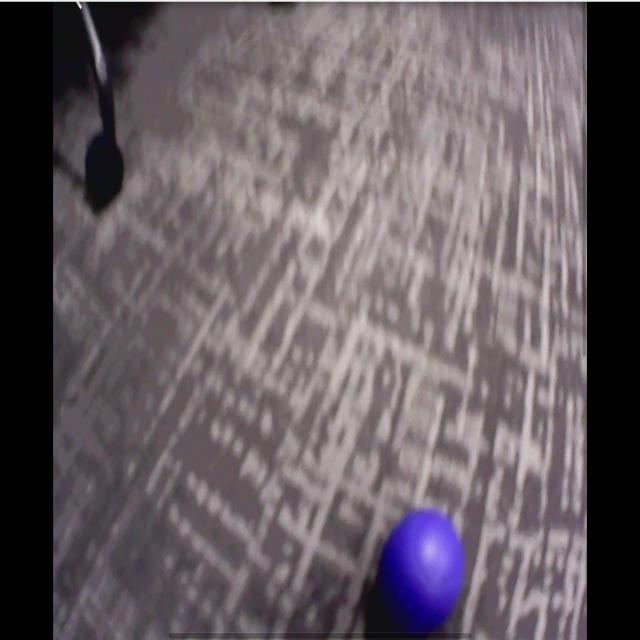ball: (384, 510, 463, 629)
